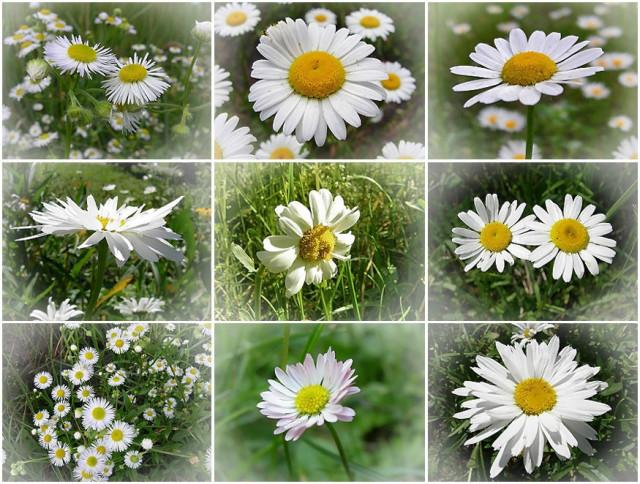chamomile: (28, 323, 204, 476), (446, 345, 618, 469), (451, 192, 621, 284), (256, 18, 379, 141), (437, 25, 612, 110), (262, 358, 370, 433), (47, 50, 184, 108), (347, 7, 399, 41), (209, 7, 262, 40), (381, 63, 417, 108), (215, 108, 242, 165)
